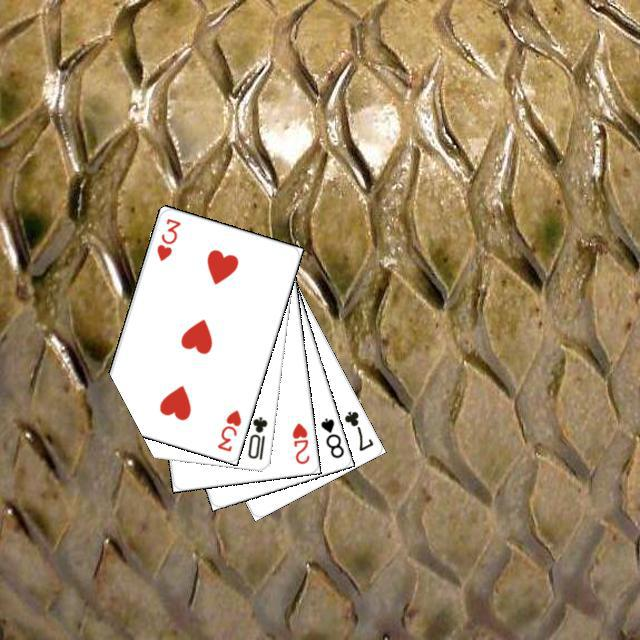10c: (243, 412, 269, 461)
2h: (287, 418, 311, 466)
3h: (152, 213, 183, 263), (212, 405, 243, 453)
7c: (339, 406, 375, 453)
8s: (316, 413, 345, 460)
